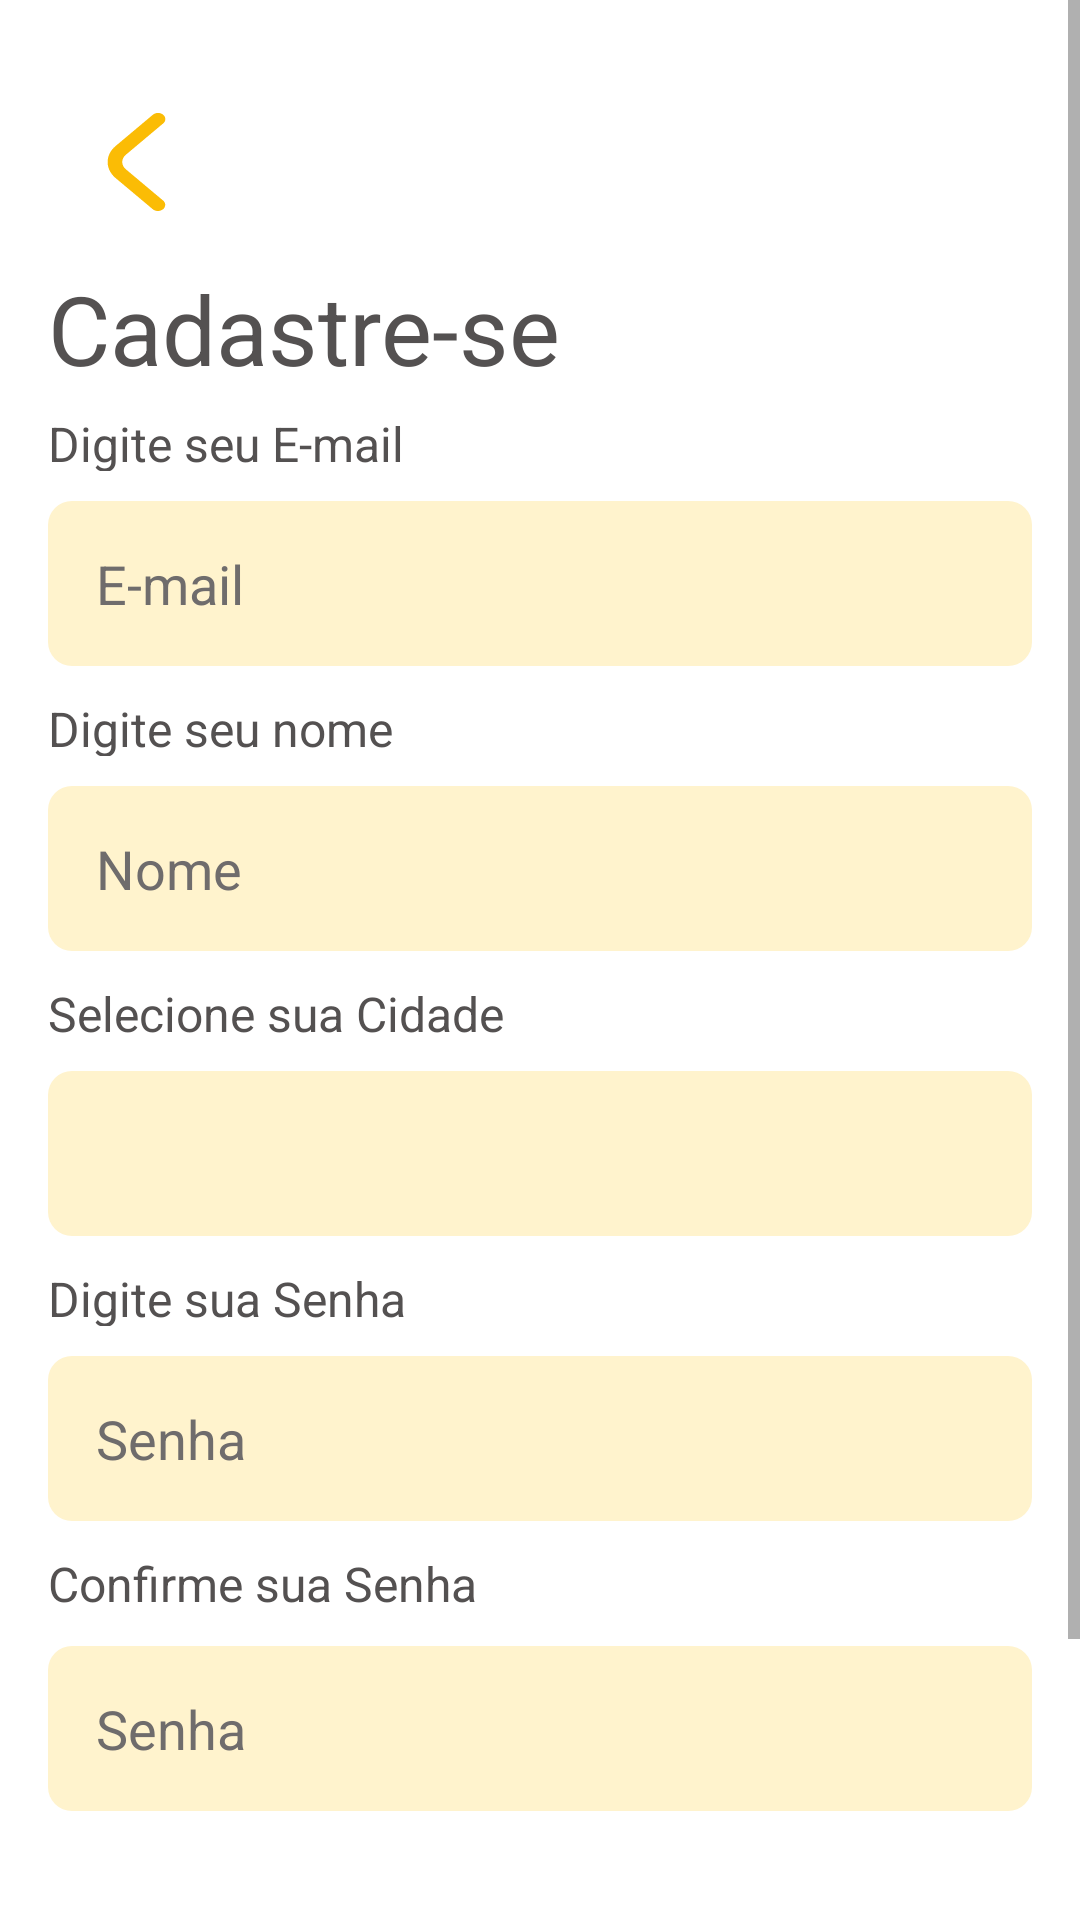

Where icons sit on this 1080 x 1920 app screen, as (x1, y1, x2, y2):
retornar: (107, 113, 166, 211)
